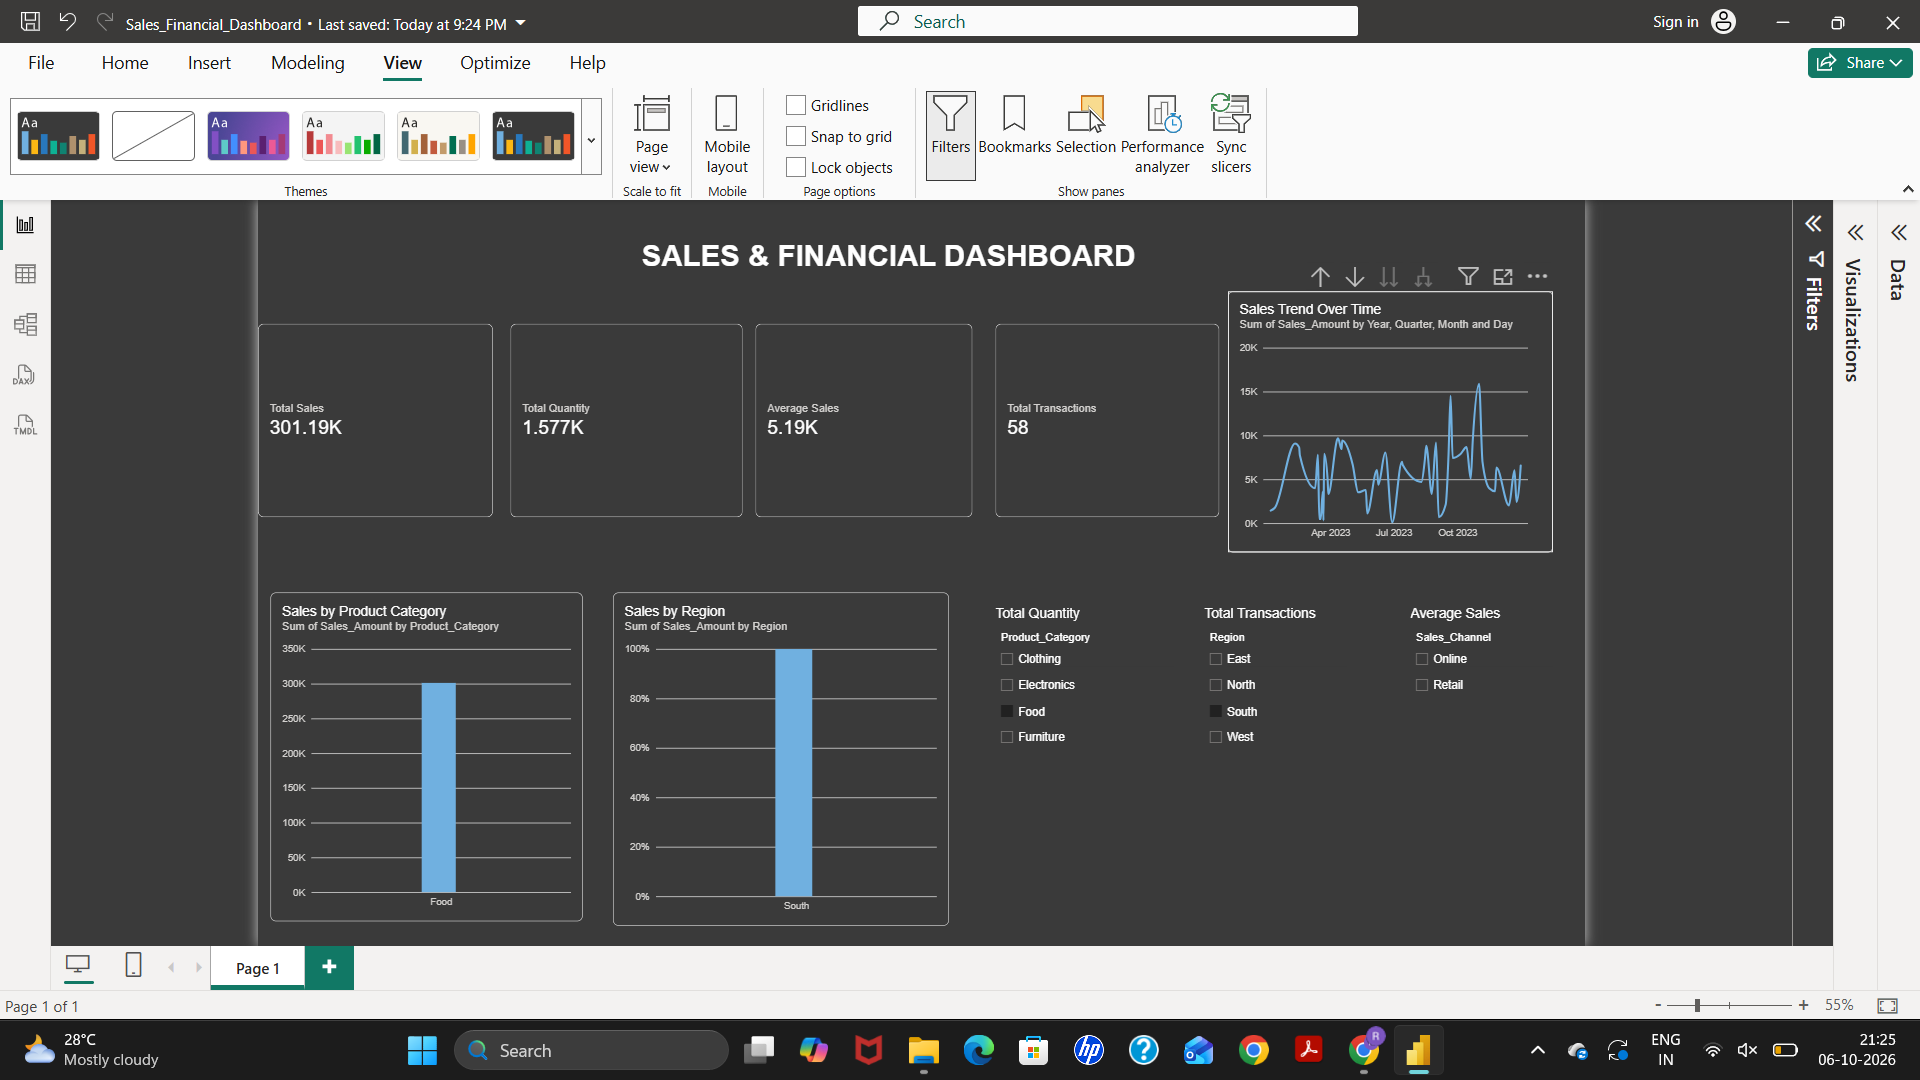

The dashboard page shown, as its layout file describes it:
{"tool":"powerbi","page":{"name":"Page 1","canvas":[1920,1080],"ordinal":0},"visuals":[{"type":"cardVisual","fields":{"Data":["sales_data csv.Total Sales"]},"box":[0,180,340,280],"z":0},{"type":"cardVisual","fields":{"Data":["sales_data csv.Total Quantity"]},"box":[366,180,336,280],"z":1000},{"type":"cardVisual","fields":{"Data":["sales_data csv.Average Sales"]},"box":[720,180,314,280],"z":2000},{"type":"cardVisual","fields":{"Data":["sales_data csv.Total Transactions"]},"box":[1068,180,324,280],"z":3000},{"type":"lineClusteredColumnComboChart","title":"Sales by Product Category","fields":{"Category":["sales_data csv.Product_Category"],"Y":["Sum(sales_data csv.Sales_Amount)"]},"box":[18,568,452,476],"z":4000},{"type":"hundredPercentStackedColumnChart","title":"Sales by Region","fields":{"Category":["sales_data csv.Region"],"Y":["Sum(sales_data csv.Sales_Amount)"]},"box":[514,568,486,482],"z":5000},{"type":"lineChart","title":"Sales Trend Over Time","fields":{"Category":["sales_data csv.Sale_Date.Variation.Date Hierarchy.Year","sales_data csv.Sale_Date.Variation.Date Hierarchy.Quarter","sales_data csv.Sale_Date.Variation.Date Hierarchy.Month","sales_data csv.Sale_Date.Variation.Date Hierarchy.Day"],"Y":["Sum(sales_data csv.Sales_Amount)"]},"box":[1404,132,470,378],"z":6000},{"type":"slicer","title":"Total Transactions","fields":{"Values":["sales_data csv.Region"]},"box":[1370,586,206,448],"z":7000},{"type":"slicer","title":"Total Quantity","fields":{"Values":["sales_data csv.Product_Category"]},"box":[1068,586,258,446],"z":8000},{"type":"slicer","title":"Average Sales","fields":{"Values":["sales_data csv.Sales_Channel"]},"box":[1668,586,206,448],"z":9000},{"type":"textbox","box":[556,56,770,76],"z":10000}]}

Visuals, with their boxes on the page's 1920x1080 design canvas (x1, y1, x2, y2). These are canvas units, not pixel positions in the 1920x1080 screenshot, which may show the page scaled, cropped or inside an application window:
cardVisual - sales_data csv.Total Sales: locate(0, 180, 340, 460)
cardVisual - sales_data csv.Total Quantity: locate(366, 180, 702, 460)
cardVisual - sales_data csv.Average Sales: locate(720, 180, 1034, 460)
cardVisual - sales_data csv.Total Transactions: locate(1068, 180, 1392, 460)
"Sales by Product Category" lineClusteredColumnComboChart: locate(18, 568, 470, 1044)
"Sales by Region" hundredPercentStackedColumnChart: locate(514, 568, 1000, 1050)
"Sales Trend Over Time" lineChart: locate(1404, 132, 1874, 510)
"Total Transactions" slicer: locate(1370, 586, 1576, 1034)
"Total Quantity" slicer: locate(1068, 586, 1326, 1032)
"Average Sales" slicer: locate(1668, 586, 1874, 1034)
textbox: locate(556, 56, 1326, 132)
